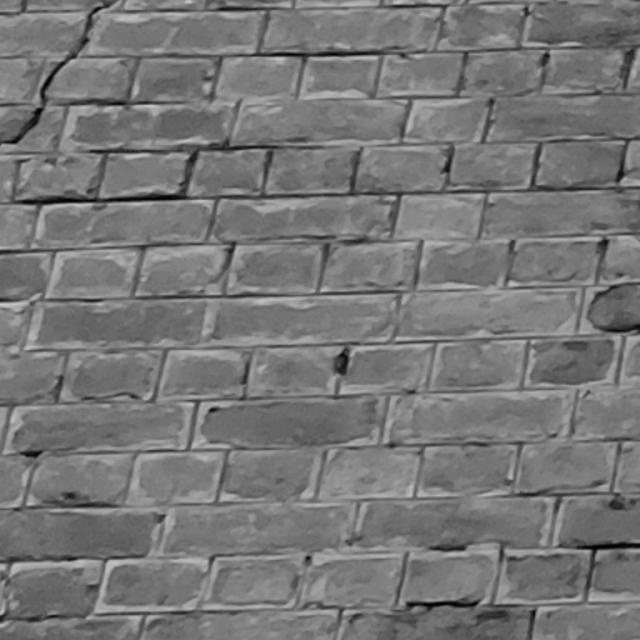crack: (0, 1, 111, 145)
